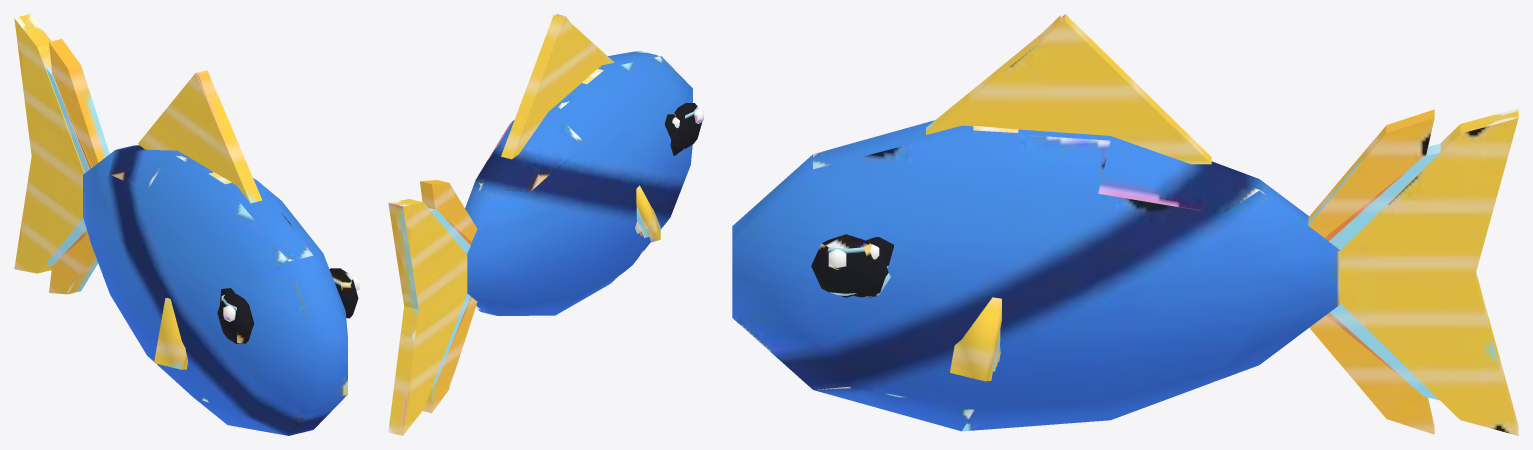
File: fish.glb
The picture shows the model from 3 angles, left to right: view 1: azimuth 30°, elevation 25°; view 2: azimuth 150°, elevation 25°; view 3: azimuth 270°, elevation 25°; orthographic projection. The views are drawn at different scales.
Visible parts, largest first — view 1: Fish_Tang, Fish_Butter, Fish_Pink; view 2: Fish_Tang, Fish_Butter, Fish_Pink; view 3: Fish_Tang, Fish_Butter, Fish_Pink, Fish_Clown.
Boxes of the visible parts, <box> form: Fish_Tang: <box>14,14,359,435</box>; Fish_Butter: <box>49,39,234,304</box>; Fish_Pink: <box>46,66,222,330</box>; Fish_Tang: <box>388,15,703,435</box>; Fish_Butter: <box>420,14,679,413</box>; Fish_Pink: <box>429,114,683,387</box>; Fish_Tang: <box>732,14,1518,435</box>; Fish_Butter: <box>865,15,1434,434</box>; Fish_Pink: <box>854,143,1440,400</box>; Fish_Clown: <box>865,172,1405,379</box>.
Size of the model in its own units: 0.1458 by 0.287 by 0.4949.
Materials: 1 (1 with a texture image).
